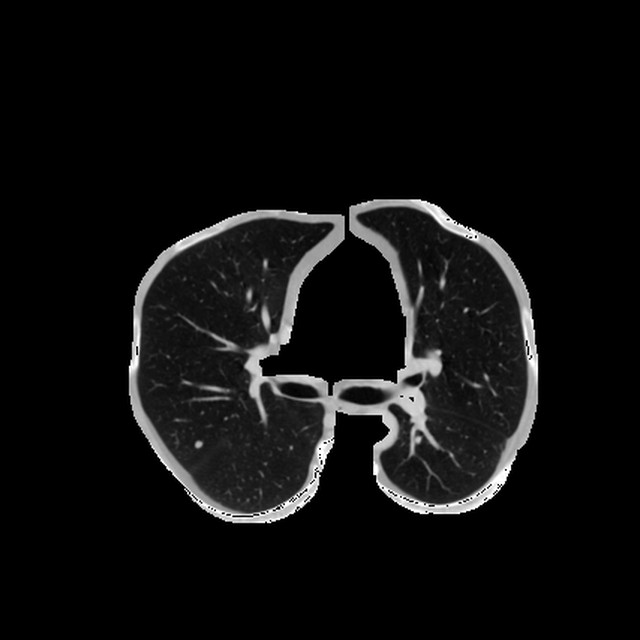PN: (193, 439, 202, 448)
